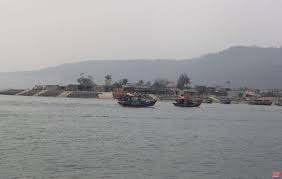tau_dansu: (116, 93, 155, 109), (175, 94, 202, 111)
